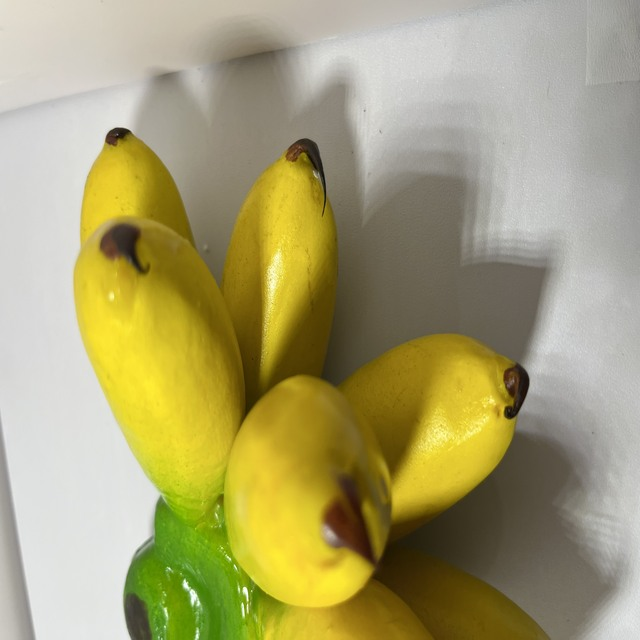Chuoi: (57, 123, 565, 640)
